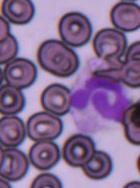N: (70, 74, 132, 128)
